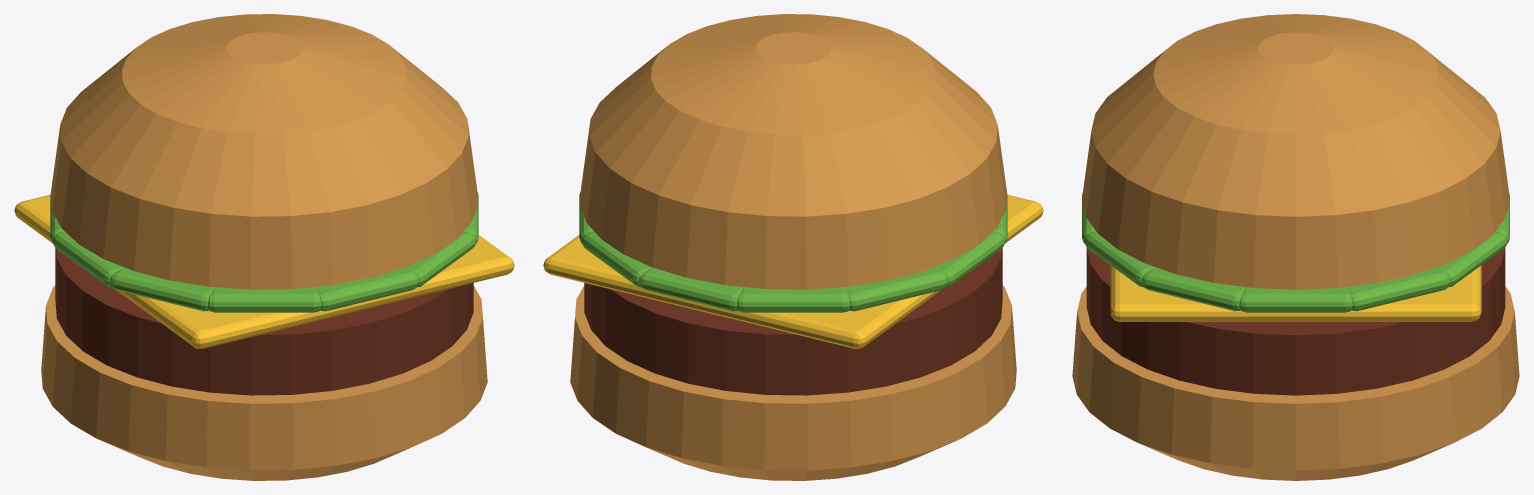
Rendered from Hamburguesa.fbx.
3 renders of one model, left to right at view 1: azimuth 30°, elevation 25°; view 2: azimuth 150°, elevation 25°; view 3: azimuth 270°, elevation 25°, orthographic.
Visible parts, largest first — view 1: Pan_superior, Pan_base, Carne, Queso, Lechuga.008, Lechuga.009, Lechuga.007, Lechuga.006, Lechuga.010; view 2: Pan_superior, Pan_base, Carne, Queso, Lechuga.004, Lechuga.003, Lechuga.005, Lechuga.006, Lechuga.002; view 3: Pan_superior, Pan_base, Carne, Queso, Lechuga, Lechuga.001, Lechuga.011, Lechuga.002, Lechuga.010.
Boxes of the visible parts, x1=… form: Pan_superior: x1=50, y1=14, x2=478, y2=289; Pan_base: x1=41, y1=285, x2=487, y2=480; Carne: x1=55, y1=248, x2=473, y2=395; Queso: x1=14, y1=195, x2=514, y2=348; Lechuga.008: x1=208, y1=287, x2=320, y2=312; Lechuga.009: x1=315, y1=267, x2=418, y2=311; Lechuga.007: x1=110, y1=267, x2=213, y2=311; Lechuga.006: x1=52, y1=231, x2=123, y2=287; Lechuga.010: x1=405, y1=231, x2=476, y2=287; Pan_superior: x1=579, y1=14, x2=1007, y2=289; Pan_base: x1=570, y1=285, x2=1016, y2=480; Carne: x1=584, y1=248, x2=1002, y2=395; Queso: x1=543, y1=195, x2=1043, y2=348; Lechuga.004: x1=737, y1=287, x2=849, y2=312; Lechuga.003: x1=639, y1=267, x2=742, y2=311; Lechuga.005: x1=844, y1=267, x2=947, y2=311; Lechuga.006: x1=934, y1=231, x2=1005, y2=287; Lechuga.002: x1=581, y1=231, x2=652, y2=287; Pan_superior: x1=1082, y1=14, x2=1509, y2=289; Pan_base: x1=1072, y1=286, x2=1519, y2=480; Carne: x1=1086, y1=248, x2=1505, y2=395; Queso: x1=1110, y1=265, x2=1481, y2=321; Lechuga: x1=1239, y1=287, x2=1352, y2=312; Lechuga.001: x1=1346, y1=267, x2=1450, y2=311; Lechuga.011: x1=1141, y1=267, x2=1245, y2=311; Lechuga.002: x1=1436, y1=231, x2=1507, y2=286; Lechuga.010: x1=1084, y1=231, x2=1155, y2=286.
Size of the model in its own units: 9.4 by 8.4 by 9.4.
